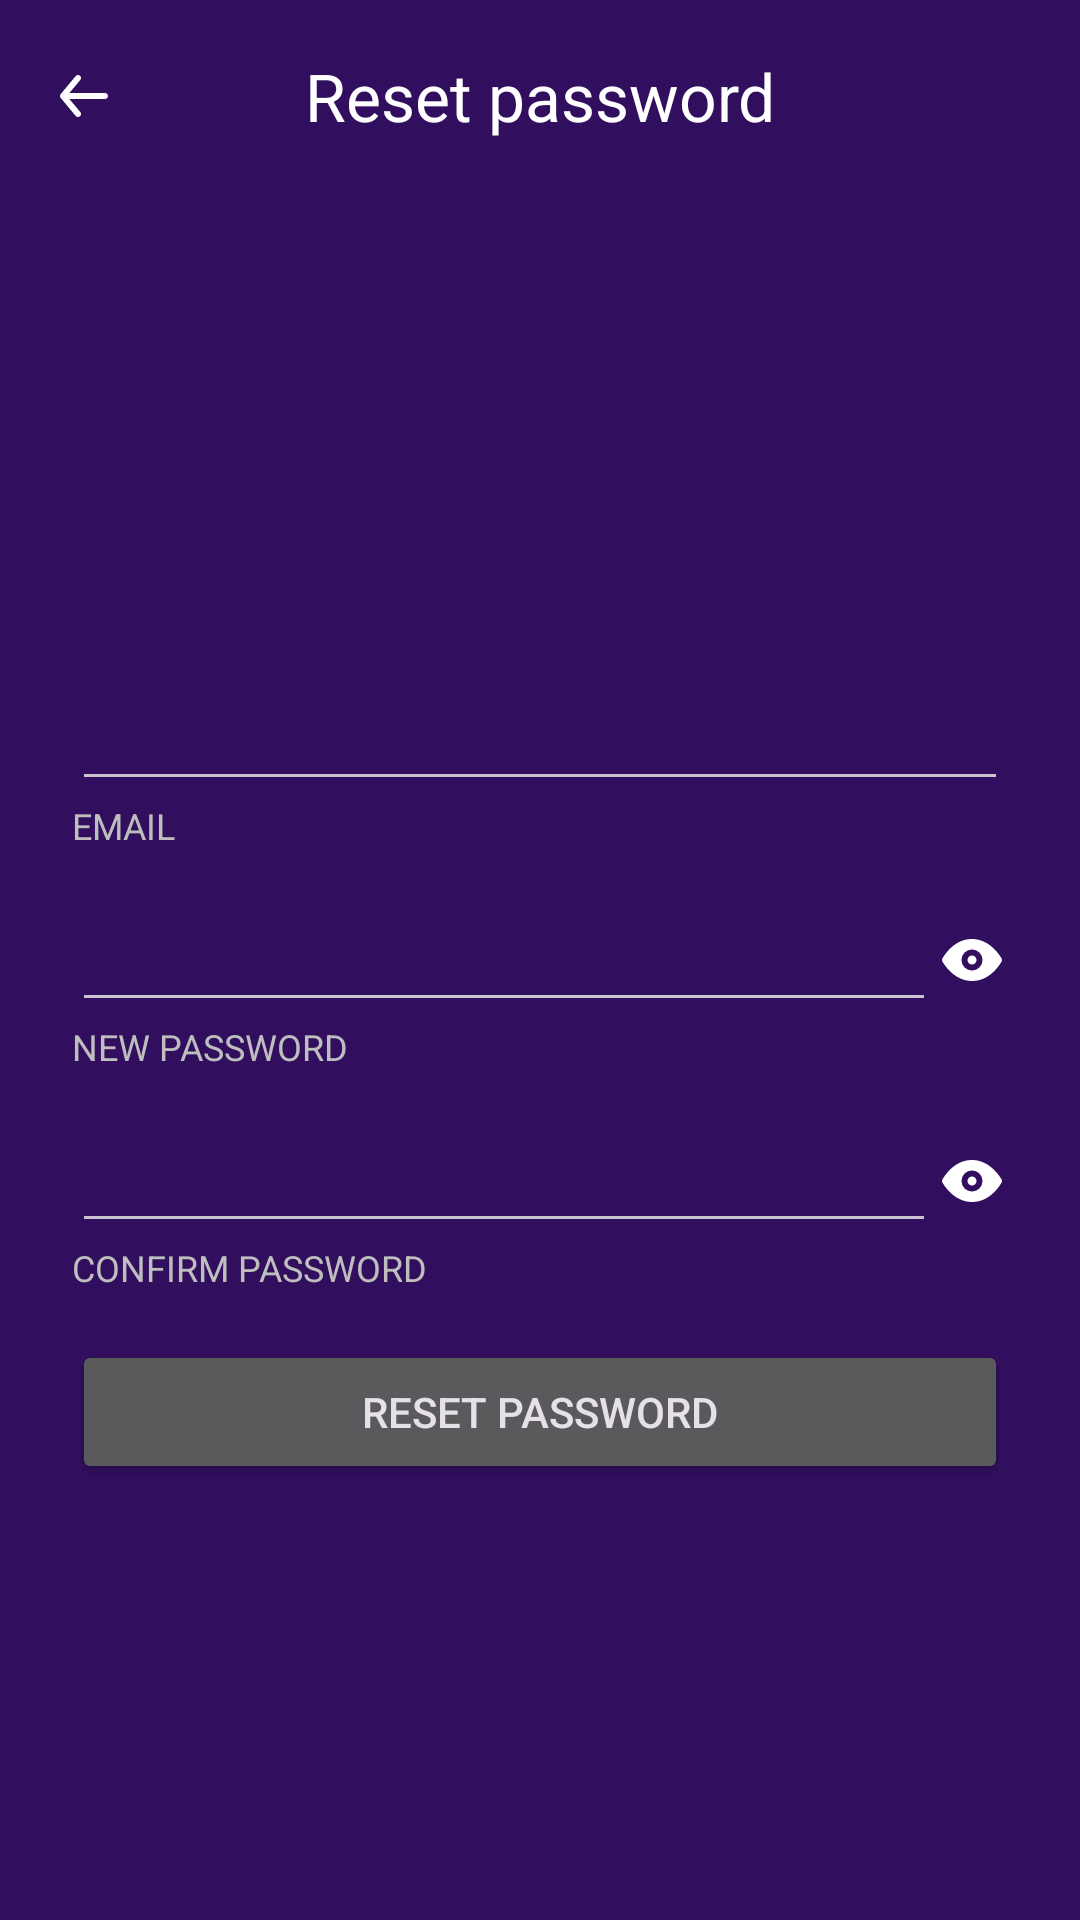

Where icons sit on this 1080*1920 app screen, as (x1, y1, x2, y2):
eye: (942, 939, 1002, 981), (942, 1160, 1002, 1202)
